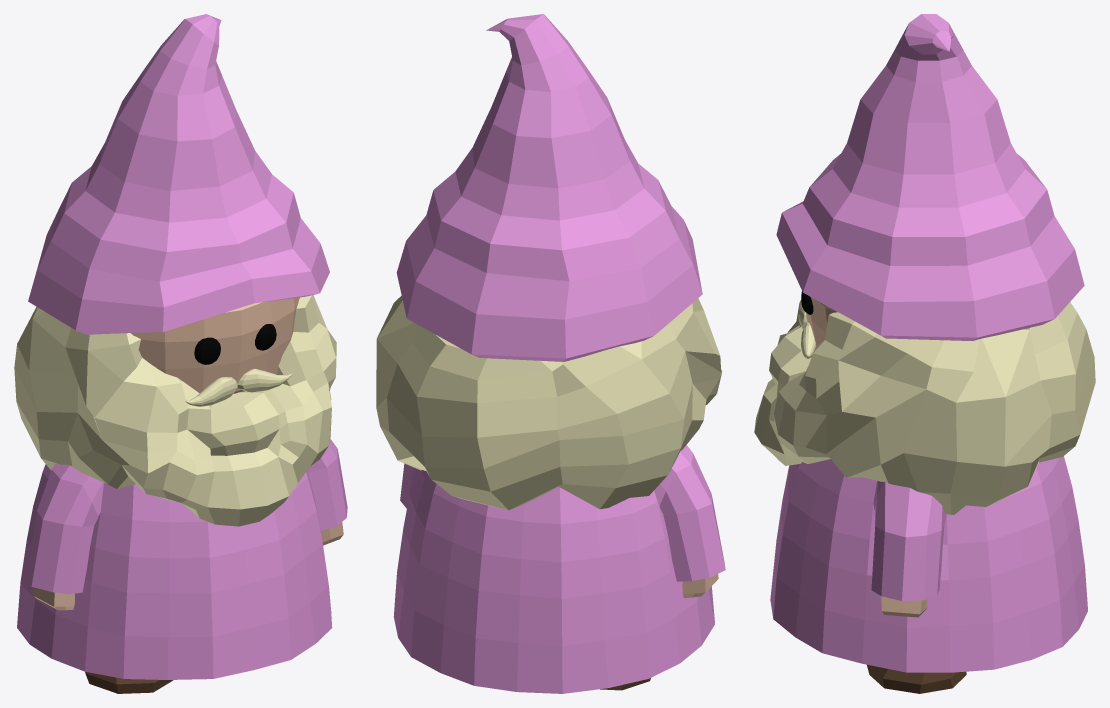
Rendered from pink_gnome.fbx.
The picture shows the model from 3 angles, left to right: view 1: azimuth 30°, elevation 25°; view 2: azimuth 150°, elevation 25°; view 3: azimuth 270°, elevation 25°; orthographic projection.
Parts seen in each view (by area): view 1: gnome_combined; view 2: gnome_combined; view 3: gnome_combined.
Part boxes in pixels (left/top/right/bottom): gnome_combined: left=14, top=14, right=347, bottom=693; gnome_combined: left=376, top=14, right=725, bottom=693; gnome_combined: left=754, top=14, right=1095, bottom=693.
Bounding box in the file's own units: 10.86 × 20.81 × 10.08.
